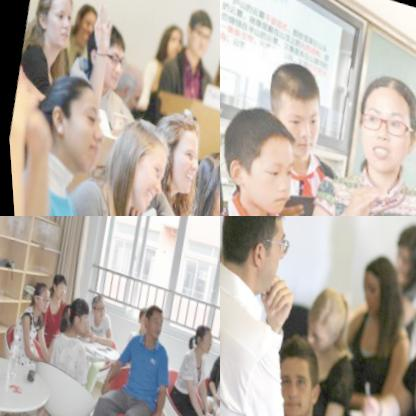head: (26, 60, 119, 183), (220, 93, 310, 216), (96, 103, 179, 216), (252, 51, 334, 160), (340, 61, 416, 177), (220, 216, 299, 298), (145, 102, 208, 197), (260, 326, 326, 416), (295, 272, 357, 362), (75, 8, 136, 91), (353, 240, 404, 317), (180, 130, 220, 216), (29, 0, 82, 55), (176, 0, 216, 59), (383, 216, 416, 284), (63, 0, 103, 48), (153, 10, 187, 59), (133, 291, 165, 336), (59, 287, 92, 330), (401, 330, 416, 415), (23, 275, 50, 312), (82, 283, 107, 318), (43, 266, 67, 299), (130, 295, 153, 329), (188, 315, 211, 346), (210, 39, 220, 84)
